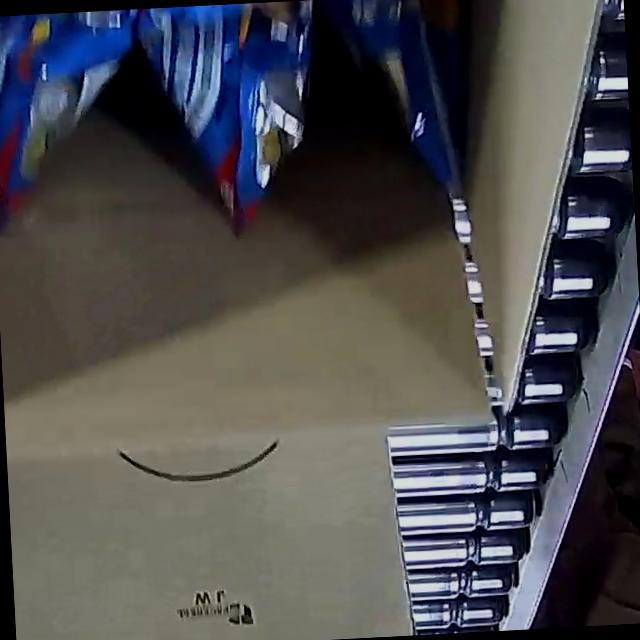paprika: (0, 0, 487, 248)
